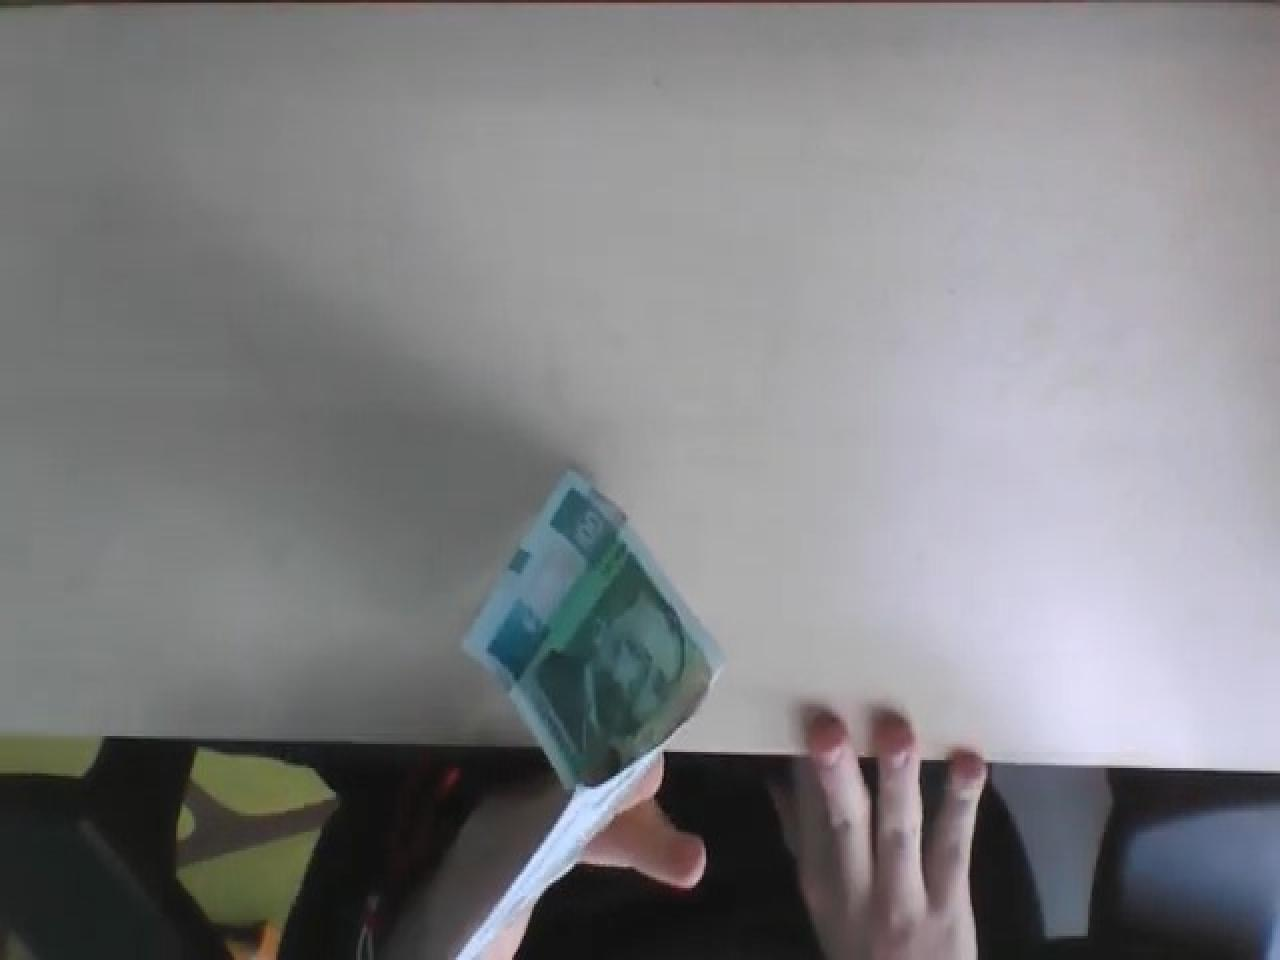100leva: (462, 466, 724, 794)
